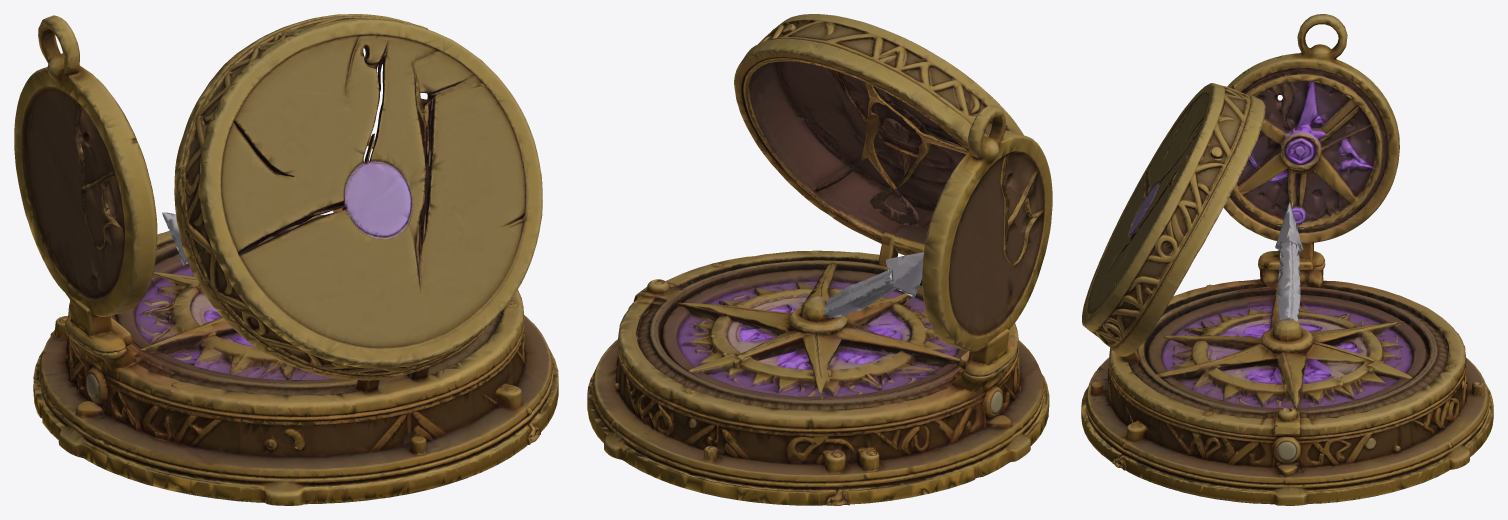
The model's file is compass-opt.glb.
3 renders of one model, left to right at view 1: azimuth 30°, elevation 25°; view 2: azimuth 150°, elevation 25°; view 3: azimuth 270°, elevation 25°, orthographic. The views are drawn at different scales.
Parts seen in each view (by area): view 1: tripo_node_74f7149c-a831-42f7-a893-141eea85672c; view 2: tripo_node_74f7149c-a831-42f7-a893-141eea85672c; view 3: tripo_node_74f7149c-a831-42f7-a893-141eea85672c.
Boxes of the visible parts, x1,y1,x2,y2 form: tripo_node_74f7149c-a831-42f7-a893-141eea85672c: (14, 14, 558, 505); tripo_node_74f7149c-a831-42f7-a893-141eea85672c: (587, 14, 1052, 505); tripo_node_74f7149c-a831-42f7-a893-141eea85672c: (1081, 14, 1493, 505).
Size of the model in its own units: 1 by 0.8431 by 0.9832.
Materials: 1 (1 with a texture image).
